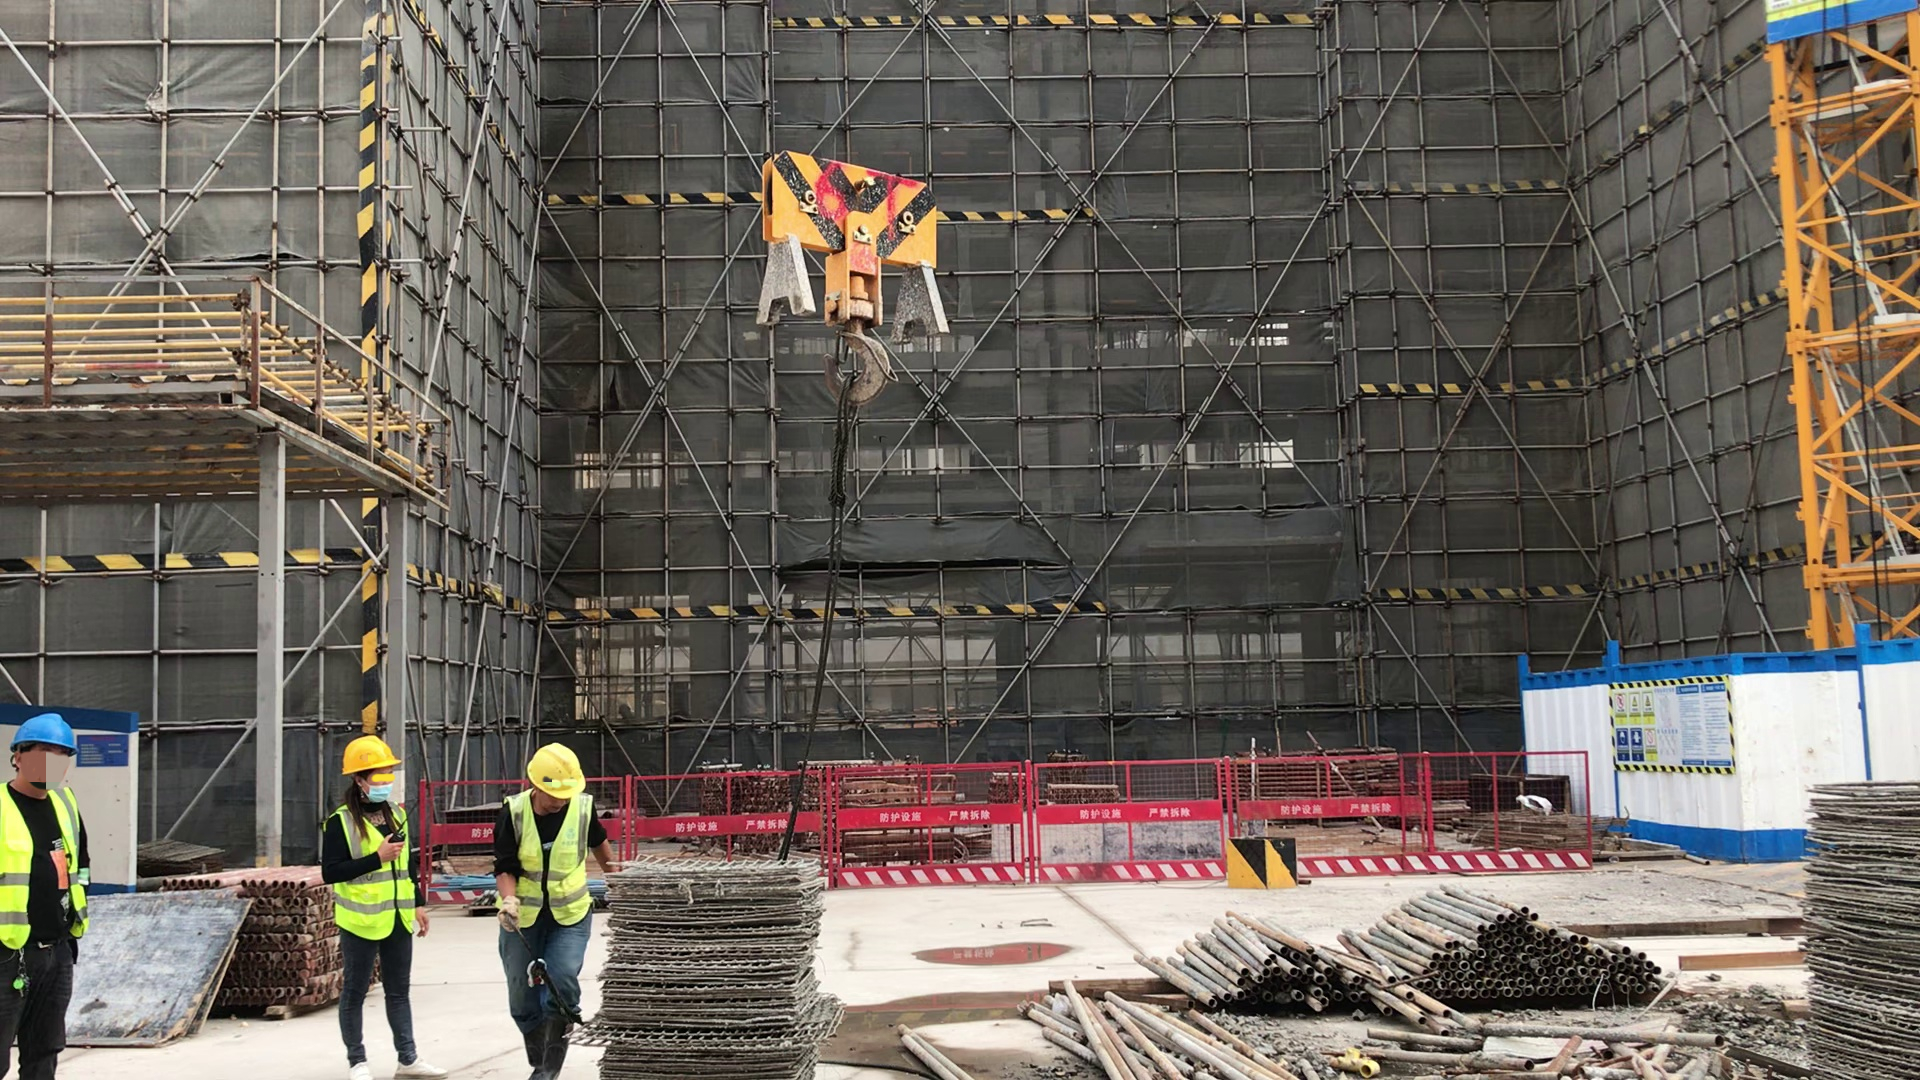fence: (437, 756, 1608, 873)
helmet: (522, 735, 589, 808), (338, 733, 405, 784), (12, 716, 81, 759)
hook: (737, 136, 991, 414)
person: (318, 730, 450, 1080), (494, 734, 606, 1080), (1, 715, 92, 1080)
scaffold: (1367, 877, 1675, 1017), (1144, 880, 1404, 1031), (161, 865, 337, 1039), (1036, 972, 1268, 1080)
slogan: (1595, 665, 1741, 775)
vest: (1, 782, 92, 966), (324, 802, 428, 949), (501, 795, 600, 935)
